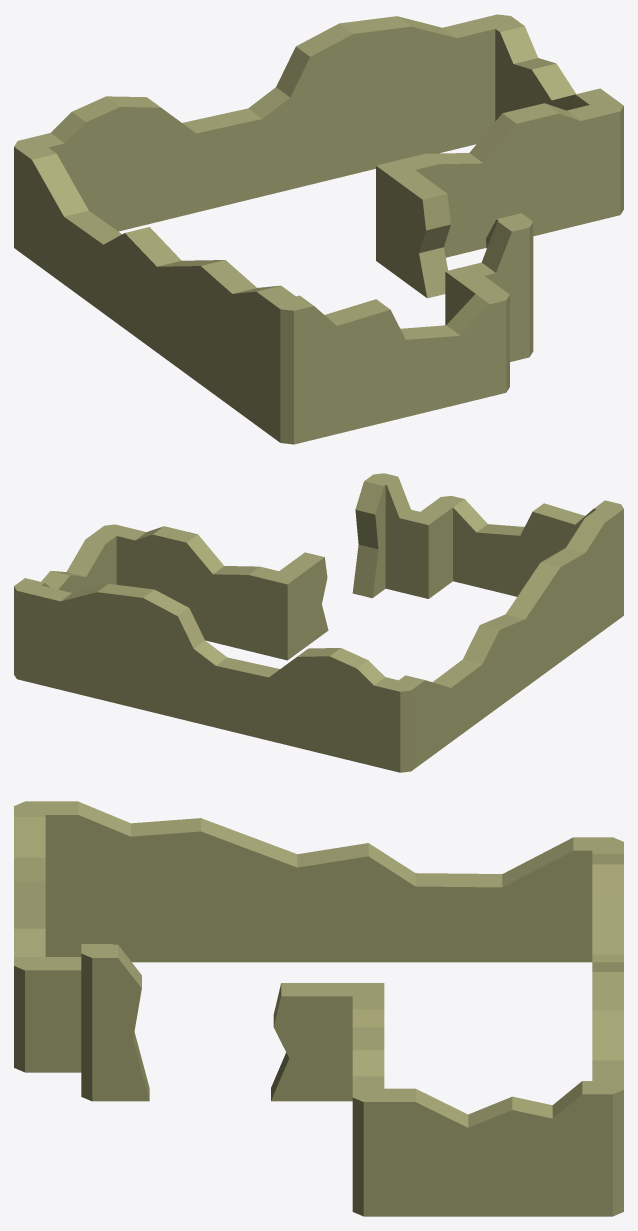
File: build7_Ruin.FBX
The picture shows the model from 3 angles, top to bottom: view 1: azimuth 30°, elevation 25°; view 2: azimuth 150°, elevation 25°; view 3: azimuth 270°, elevation 25°; orthographic projection. The views are drawn at different scales.
Visible parts, largest first — view 1: Ruins; view 2: Ruins; view 3: Ruins.
Boxes of the visible parts, box(x1,y1,x2,y2) form: Ruins: box(14, 14, 623, 444); Ruins: box(14, 473, 623, 772); Ruins: box(14, 801, 623, 1216).
Size of the model in its own units: 550 by 148 by 530.
